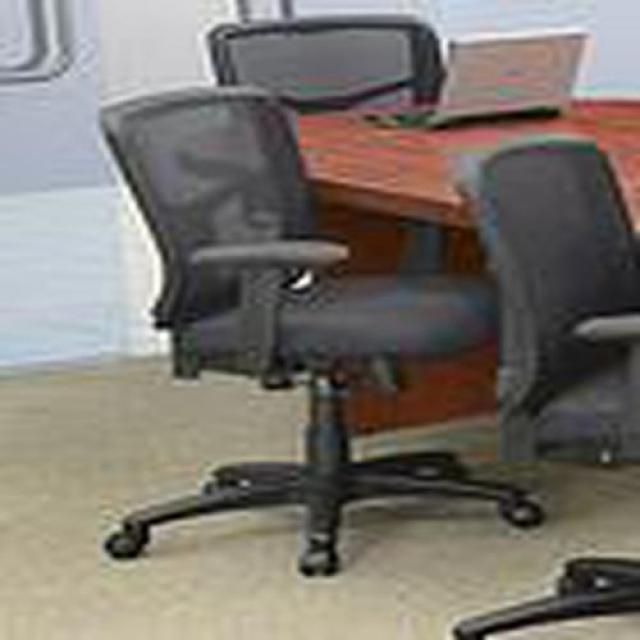table: (100, 87, 547, 579)
